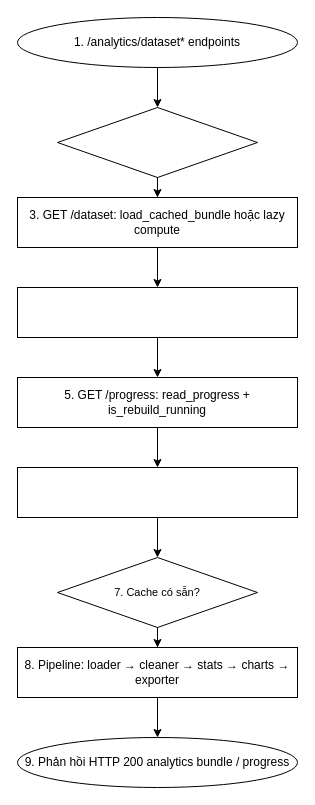
This 315x805 diagram has some shape labels left out. Each missing label, with the centre of its shape:
2. Endpoint?: the point at 157,142
4. POST /rebuild: run_dataset_analytics_pipeline: the point at 157,312
6. GET /overview|statistics|charts…: load JSON slices: the point at 157,492
